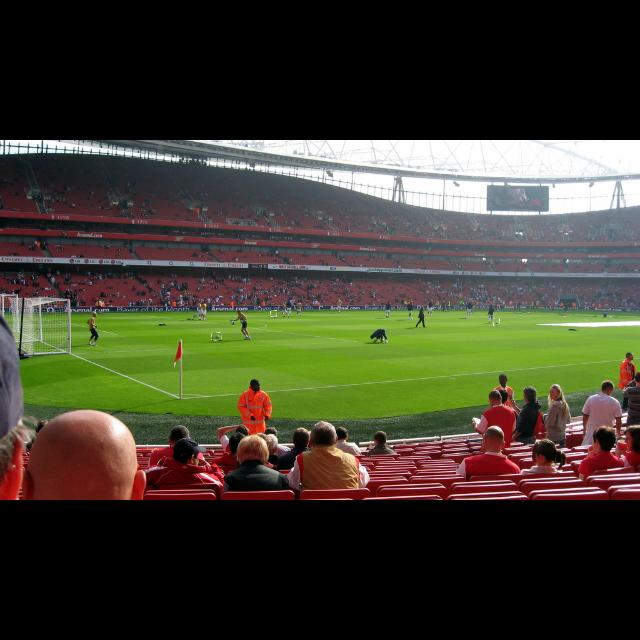Football: (212, 333, 222, 341), (494, 318, 500, 326), (271, 311, 277, 317)
